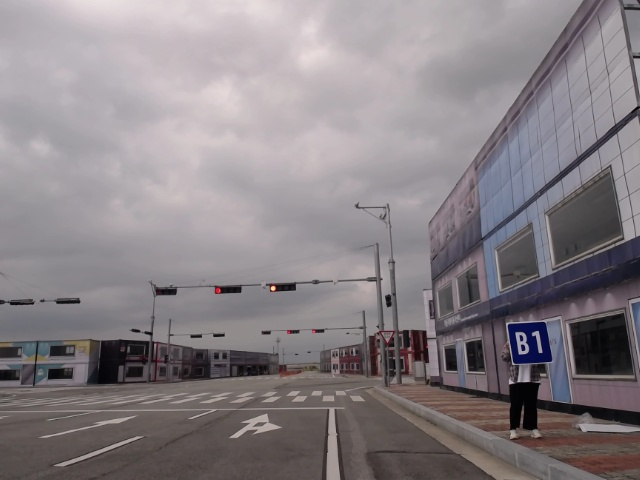delivery_b1: (506, 321, 554, 365)
red_4: (269, 283, 296, 291), (214, 286, 241, 293), (312, 328, 324, 333), (287, 330, 300, 334)
